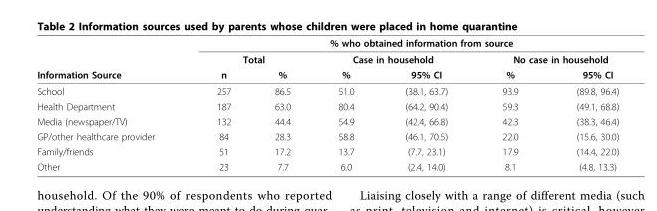table: (36, 36, 618, 171)
table column: (36, 36, 185, 171), (379, 36, 474, 171), (474, 36, 546, 171), (546, 36, 618, 171), (185, 36, 252, 171), (313, 36, 379, 171), (252, 36, 313, 171)
table column header: (36, 36, 618, 82)
table row: (36, 50, 618, 66), (36, 66, 618, 82), (36, 82, 618, 98), (36, 98, 618, 113), (36, 113, 618, 128), (36, 128, 618, 143), (36, 143, 618, 158), (36, 36, 618, 50), (36, 158, 618, 171)
table spanning cell: (36, 36, 185, 82), (185, 36, 618, 50), (313, 50, 474, 66), (474, 50, 618, 66), (185, 50, 313, 66)
